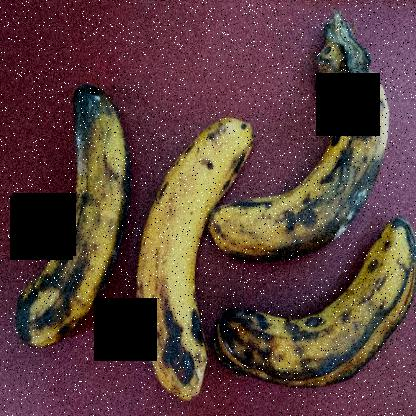overripe: (129, 95, 251, 406)
rotten: (212, 225, 416, 404), (3, 86, 135, 360), (208, 82, 397, 257)
